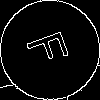F: (25, 25, 78, 69)
